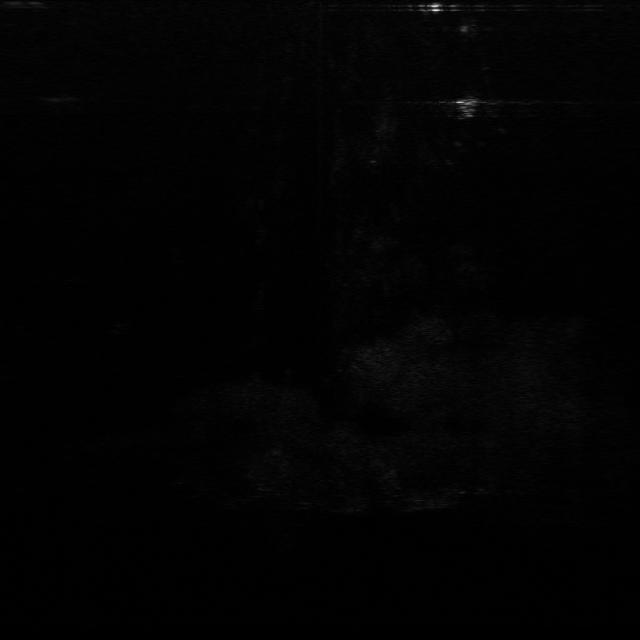rov: (452, 95, 486, 122)
